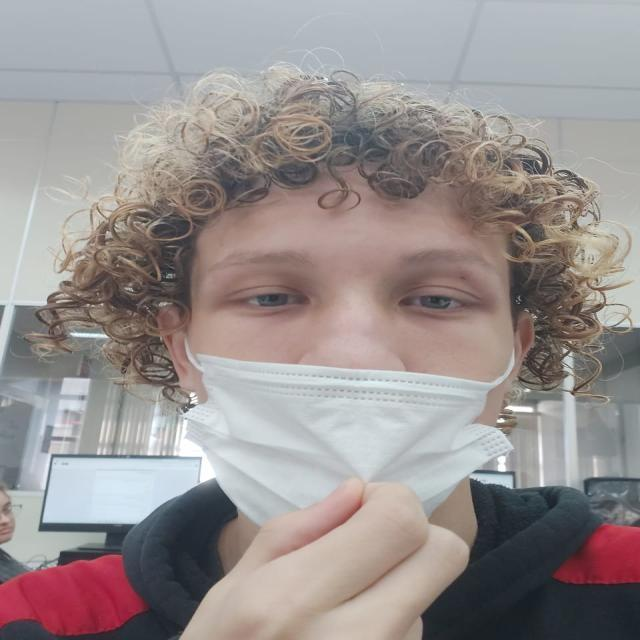hairnet: (171, 313, 530, 518)
